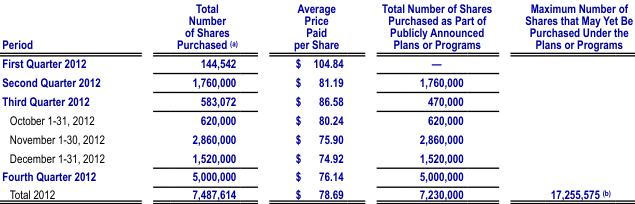table: (1, 1, 632, 200)
table column: (361, 1, 507, 200), (1, 1, 140, 200), (507, 1, 632, 200), (140, 1, 264, 200), (264, 1, 361, 200)
table column header: (1, 1, 632, 53)
table row: (1, 1, 632, 53), (1, 71, 632, 90), (1, 90, 632, 109), (1, 109, 632, 128), (1, 128, 632, 147), (1, 147, 632, 166), (1, 53, 632, 71), (1, 166, 632, 184), (1, 184, 632, 200)
